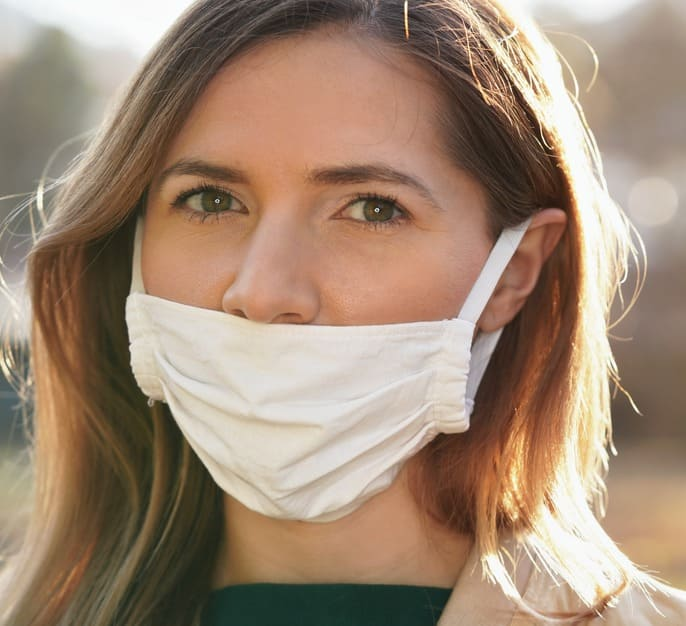with_incorrect_mask: (132, 30, 500, 520)
